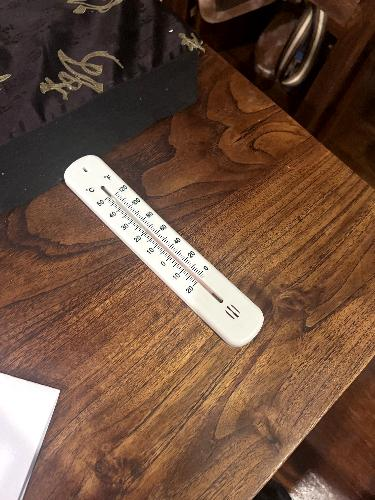thermo: (62, 140, 266, 347)
